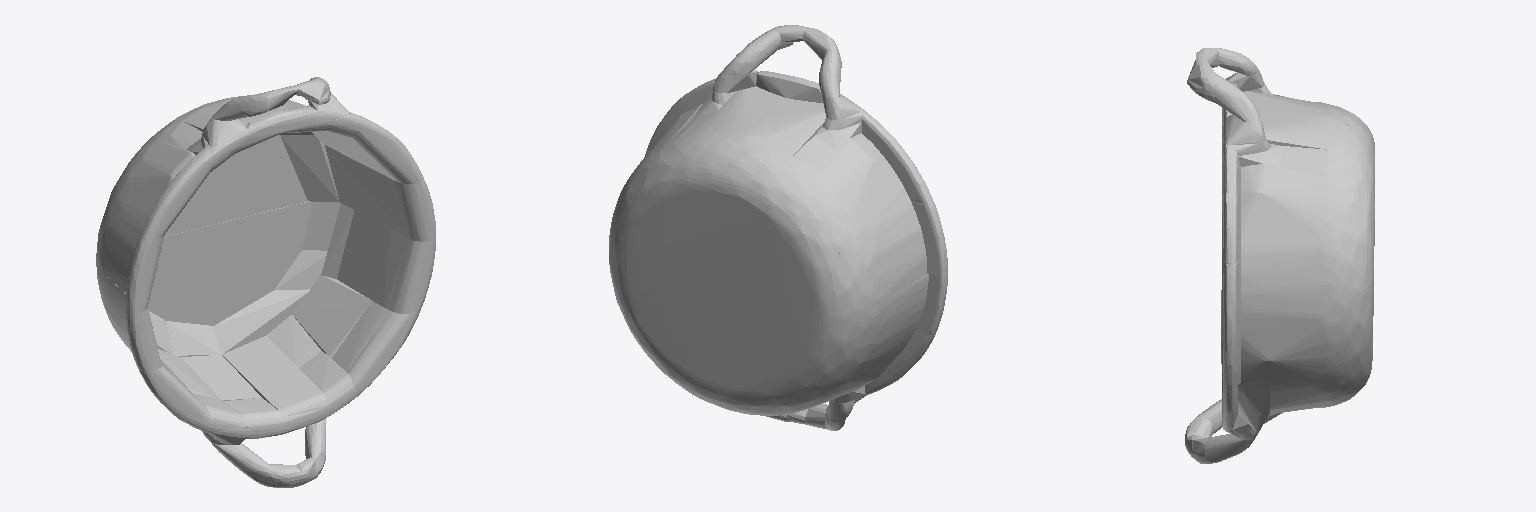
Rendered from coacd_collision.obj.
3 views of the same model, side by side, from view 1: azimuth 30°, elevation 25°; view 2: azimuth 150°, elevation 25°; view 3: azimuth 270°, elevation 25° (orthographic).
Parts seen in each view (by area): view 1: geometry_0, geometry_1, geometry_48, geometry_33, geometry_32, geometry_22, geometry_10, geometry_5, geometry_24, geometry_36, geometry_18, geometry_6 (+28 smaller); view 2: geometry_1, geometry_0, geometry_10, geometry_24, geometry_16, geometry_13, geometry_34, geometry_29, geometry_18, geometry_25, geometry_27, geometry_9 (+19 smaller); view 3: geometry_26, geometry_22, geometry_48, geometry_34, geometry_32, geometry_8, geometry_1, geometry_35, geometry_13, geometry_6, geometry_43, geometry_45 (+12 smaller).
Boxes of the visible parts, x1,y1,x2,y2 form: geometry_0: [148, 201, 312, 325]; geometry_1: [164, 135, 307, 236]; geometry_48: [337, 210, 407, 309]; geometry_33: [222, 336, 327, 416]; geometry_32: [292, 275, 371, 358]; geometry_22: [325, 145, 407, 236]; geometry_10: [115, 140, 195, 224]; geometry_5: [213, 289, 309, 354]; geometry_24: [97, 194, 144, 292]; geometry_36: [347, 310, 420, 399]; geometry_18: [140, 148, 211, 239]; geometry_6: [281, 135, 338, 201]; geometry_1: [613, 164, 839, 314]; geometry_0: [613, 260, 839, 407]; geometry_10: [811, 133, 911, 236]; geometry_24: [850, 203, 926, 308]; geometry_16: [846, 274, 928, 367]; geometry_13: [737, 98, 825, 163]; geometry_34: [687, 86, 784, 148]; geometry_29: [757, 155, 838, 222]; geometry_18: [862, 113, 932, 203]; geometry_25: [810, 331, 914, 404]; geometry_27: [911, 201, 947, 276]; geometry_9: [823, 219, 866, 312]; geometry_26: [1241, 164, 1347, 255]; geometry_22: [1241, 249, 1347, 322]; geometry_48: [1241, 320, 1330, 382]; geometry_34: [1223, 113, 1347, 155]; geometry_32: [1270, 377, 1346, 414]; geometry_8: [1223, 150, 1240, 264]; geometry_1: [1365, 124, 1374, 309]; geometry_35: [1282, 146, 1347, 184]; geometry_13: [1244, 91, 1339, 120]; geometry_6: [1348, 227, 1364, 316]; geometry_43: [1238, 382, 1269, 432]; geometry_45: [1191, 434, 1254, 463].
Bounding box in the file's own units: 205 × 254 × 110.